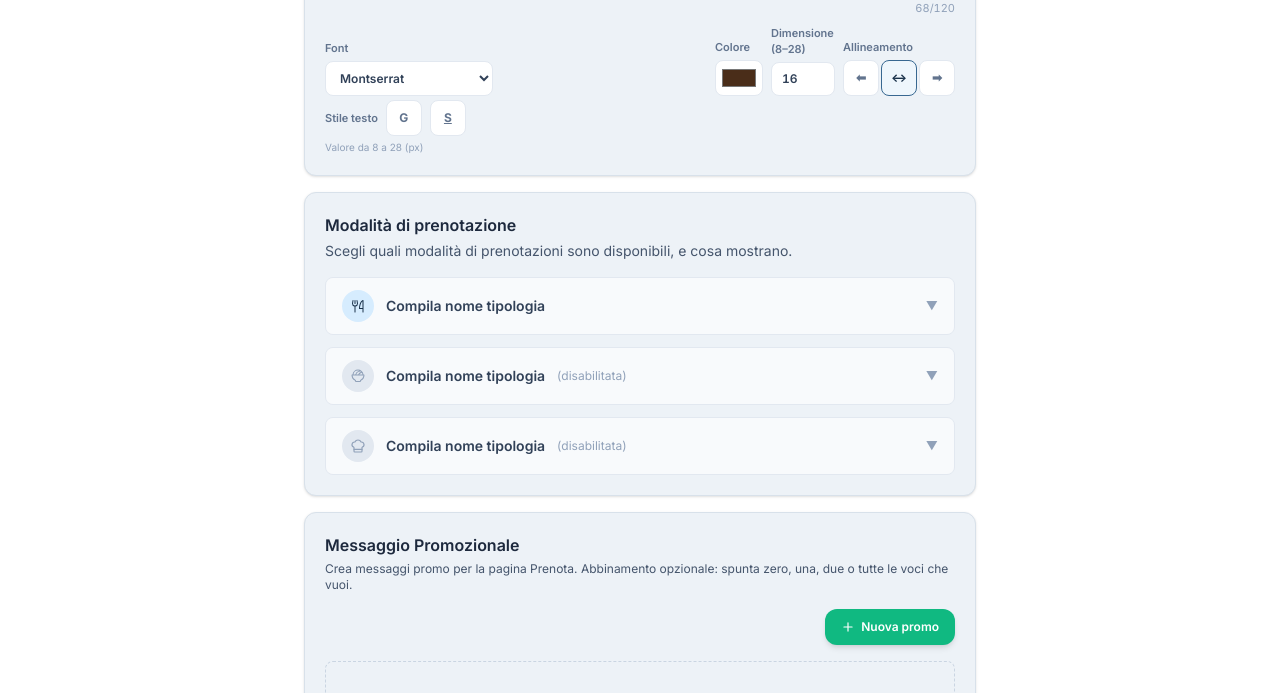
Scenario: settings-form-config delete card/carosello › mostra modale sulla riga collassata: annulla non rimuove, conferma alza dirty
(page scrolled)
Click the button "Compila nome tipologia ▼".
click(358, 306)  # box [326, 278, 954, 334]
(page scrolled)
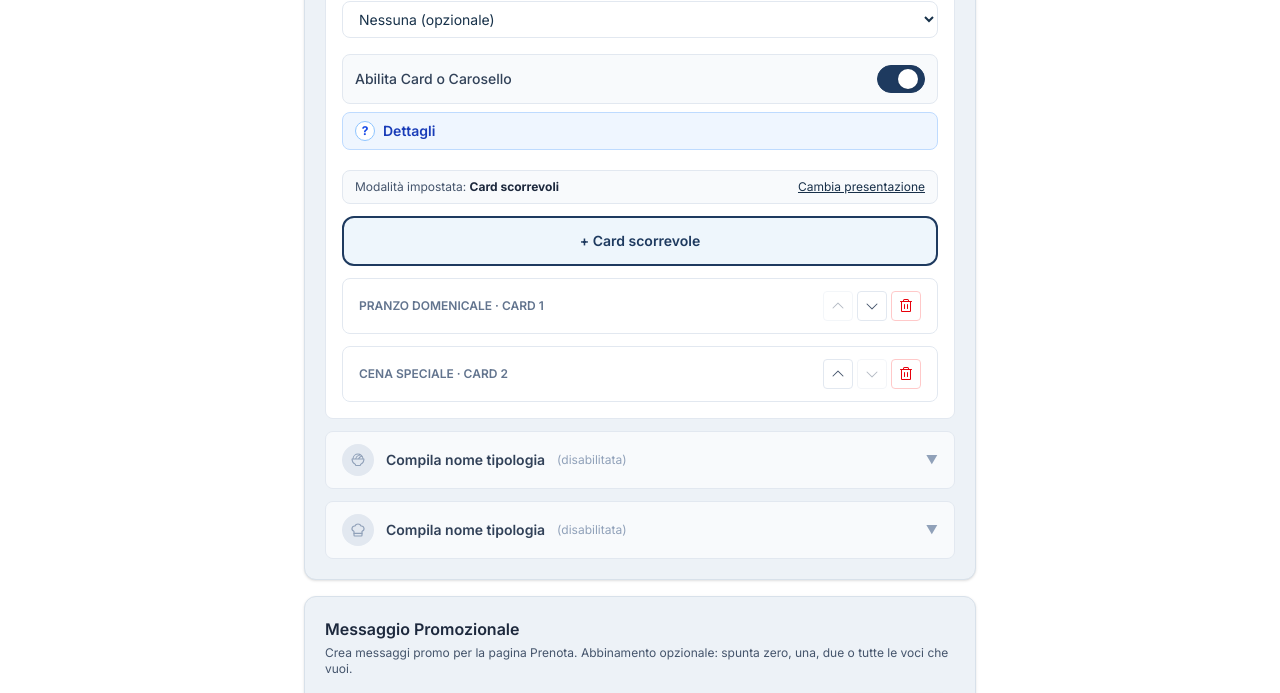
Now the text "Abilita Card o Carosello" is shown, box [355, 69, 512, 89]
Now the text "Pranzo domenicale · Card 1" is shown, box [359, 298, 544, 313]
Click the button named "Elimina Pranzo domenicale · Card 1".
click(906, 306)  # box [891, 291, 921, 321]
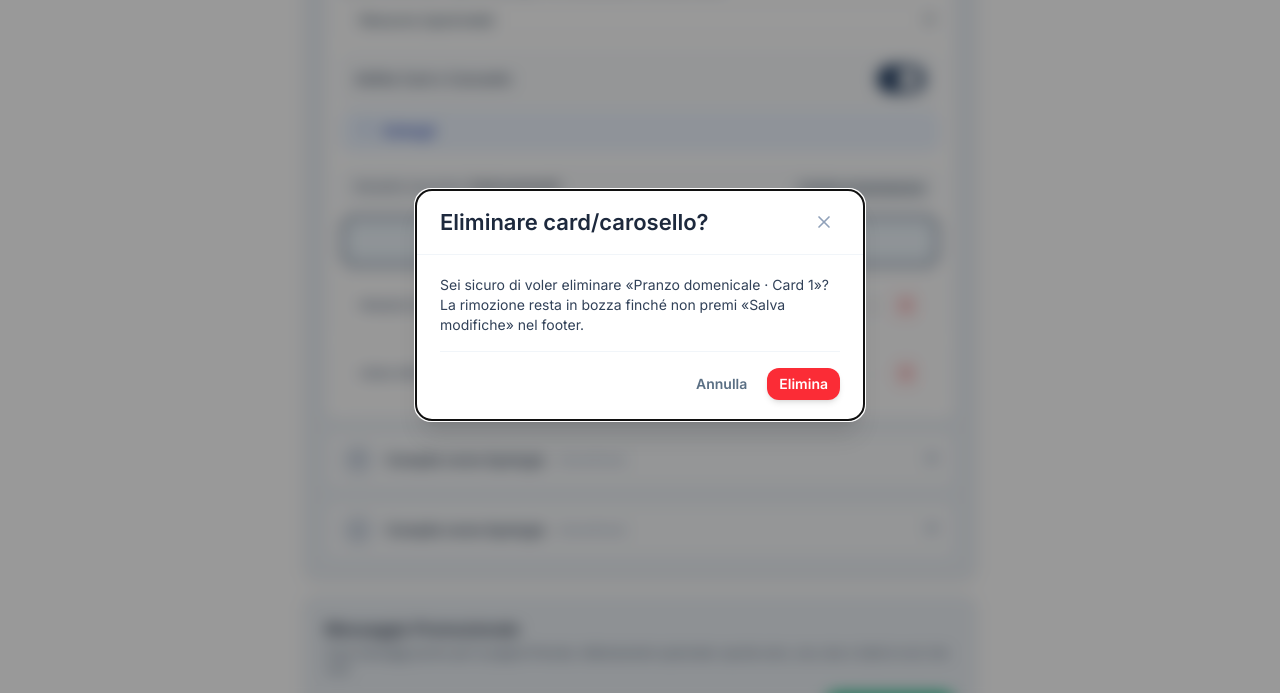
Now the text "Pranzo domenicale · Card 1" is shown, box [634, 276, 814, 293]
Now the text "salva modifiche" is shown, box [440, 276, 829, 333]
Click the button "Annulla".
click(722, 384)  # box [684, 368, 759, 400]
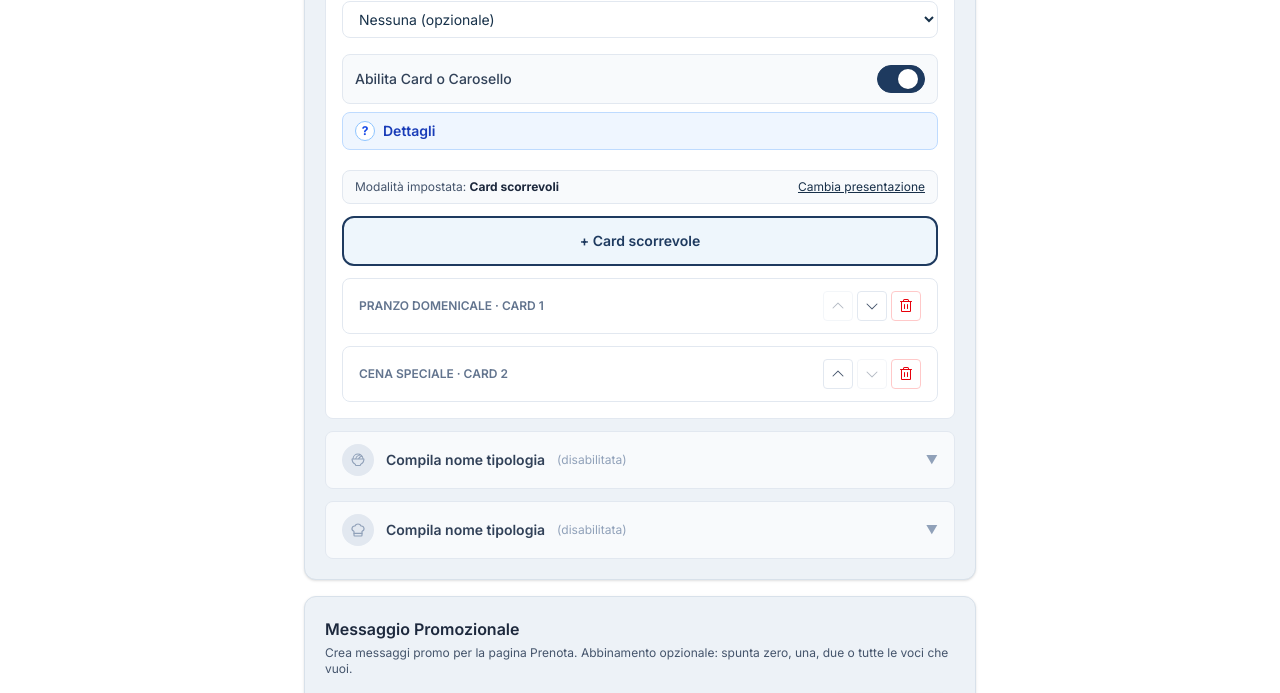
Now the text "Pranzo domenicale · Card 1" is shown, box [359, 298, 544, 313]
Now the heading "Eliminare card/carosello" is gone
Click the button named "Elimina Pranzo domenicale · Card 1".
click(906, 306)  # box [891, 291, 921, 321]
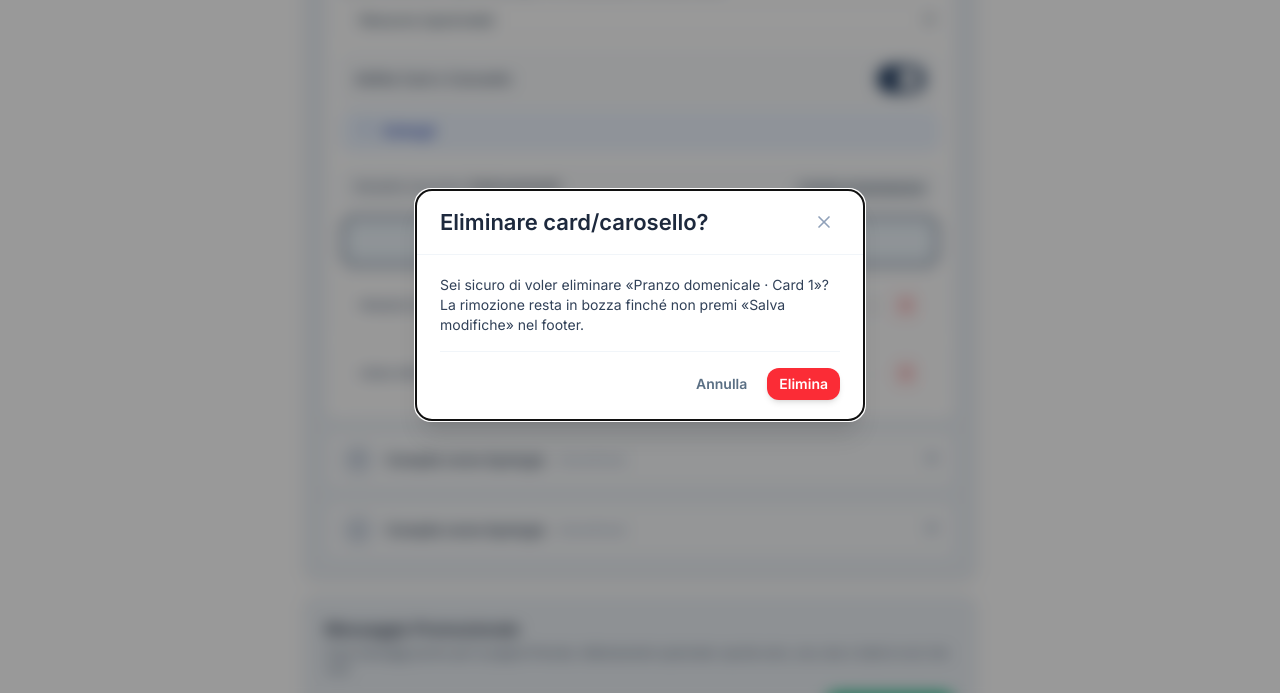
Click the button "Elimina".
click(804, 384)  # box [767, 368, 840, 400]
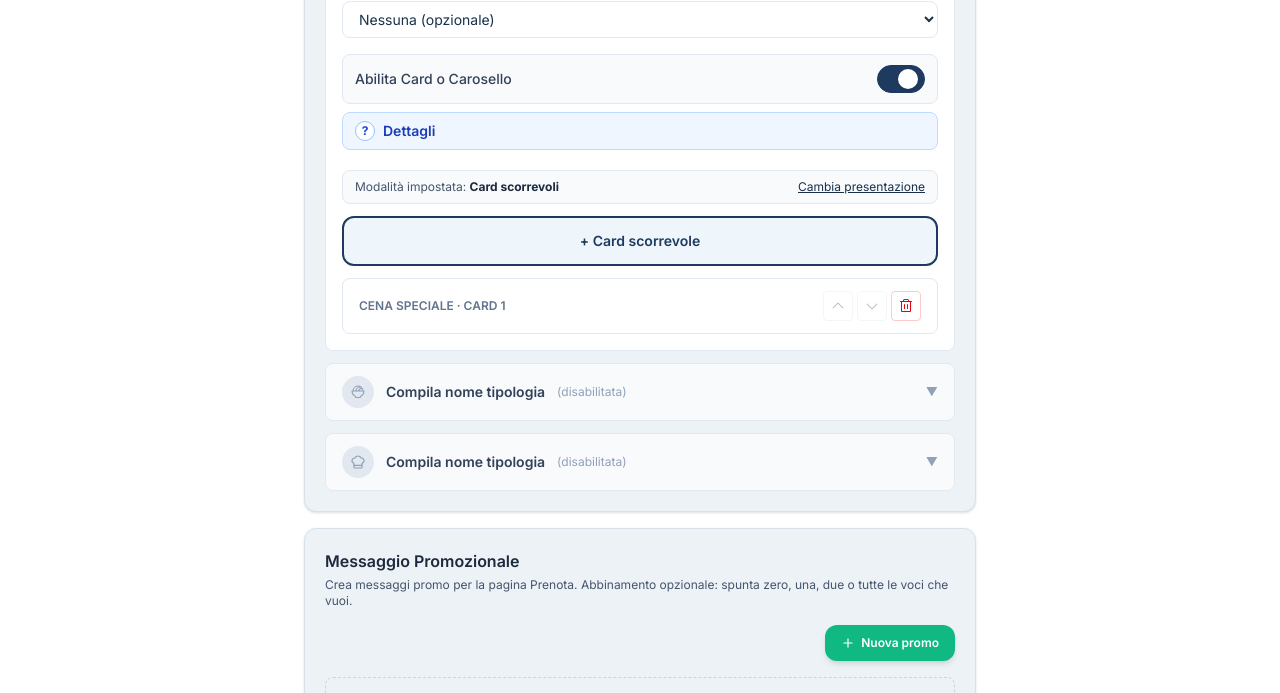
Now the button "Pranzo domenicale · Card 1" is gone
Now the text "Cena speciale · Card 1" is shown, box [359, 298, 506, 313]
